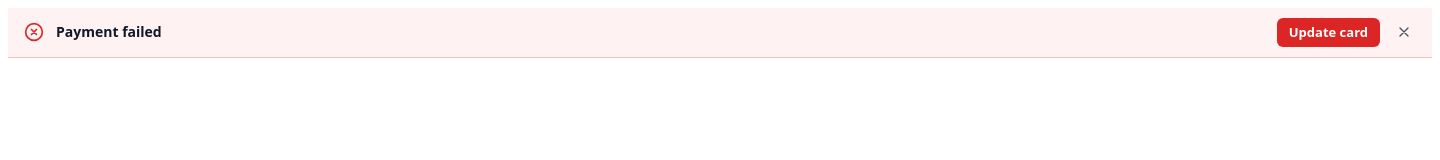
Test: <BannerHost /> › shows the highest priority banner and dismisses it
Check: the message shows "Payment failed", box [56,22,162,41]
Check: the text "Scheduled maintenance" is not shown
Click the button named "Dismiss": [1404, 32] box [1392,20,1416,44]
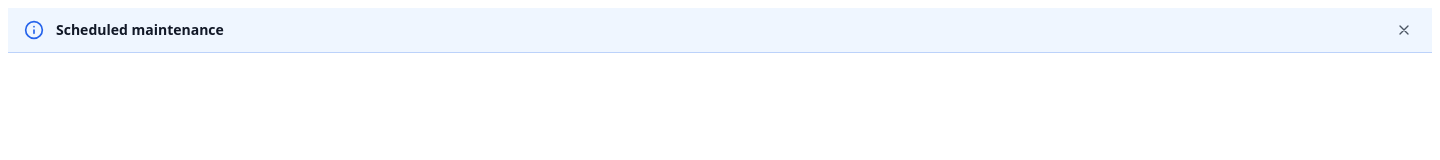
Check: the message reads "Scheduled maintenance", box [56,20,224,39]
